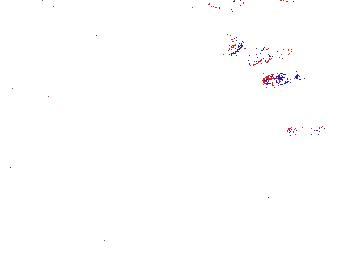red belly glassfish: (284, 122, 330, 141), (261, 70, 302, 87)
redtail glassfish: (227, 31, 293, 64)
